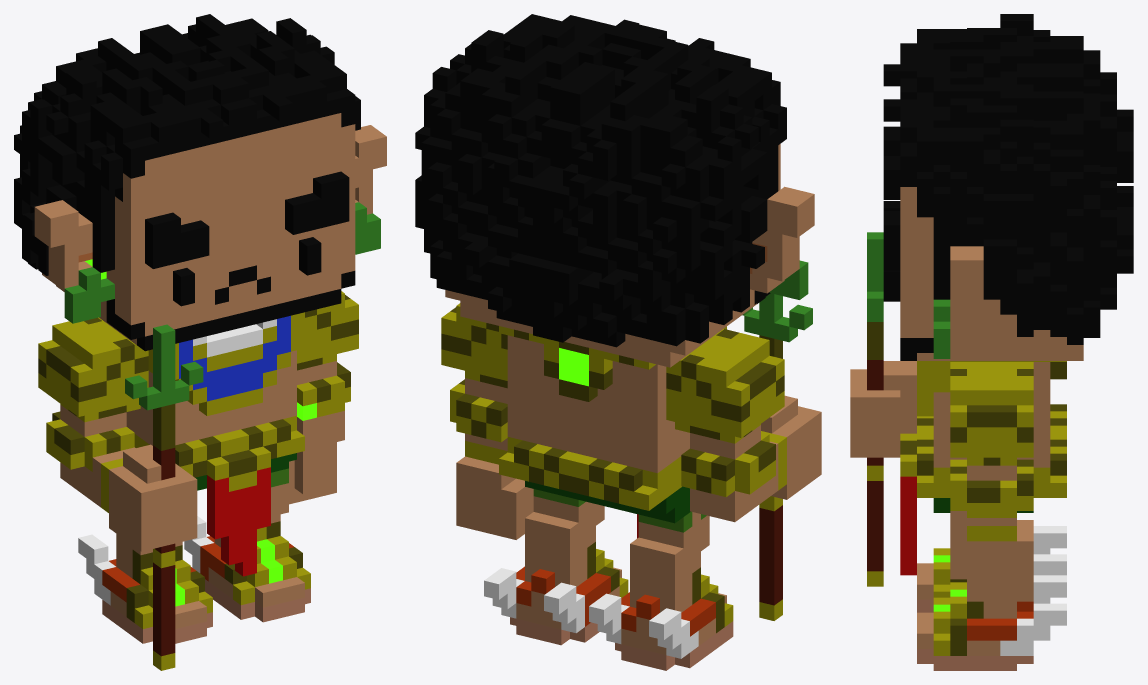
The model's file is asset.glb.
3 views of the same model, side by side, from view 1: azimuth 30°, elevation 25°; view 2: azimuth 150°, elevation 25°; view 3: azimuth 270°, elevation 25° (orthographic). The views are drawn at different scales.
Parts seen in each view (by area): view 1: Cube.2899; view 2: Cube.2899; view 3: Cube.2899.
Part boxes in pixels (box(x1,y1,x2,y2)): Cube.2899: box(14, 14, 386, 670); Cube.2899: box(415, 14, 821, 670); Cube.2899: box(850, 14, 1133, 670).
Size of the model in its own units: 24 by 37 by 17.
